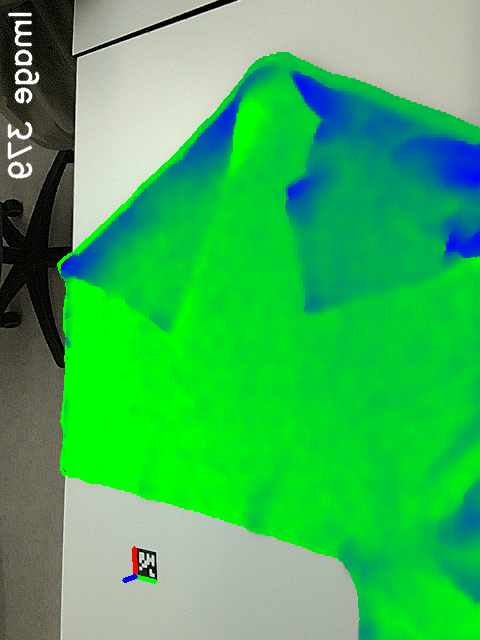V: (282, 271, 353, 328), (143, 294, 200, 344)
